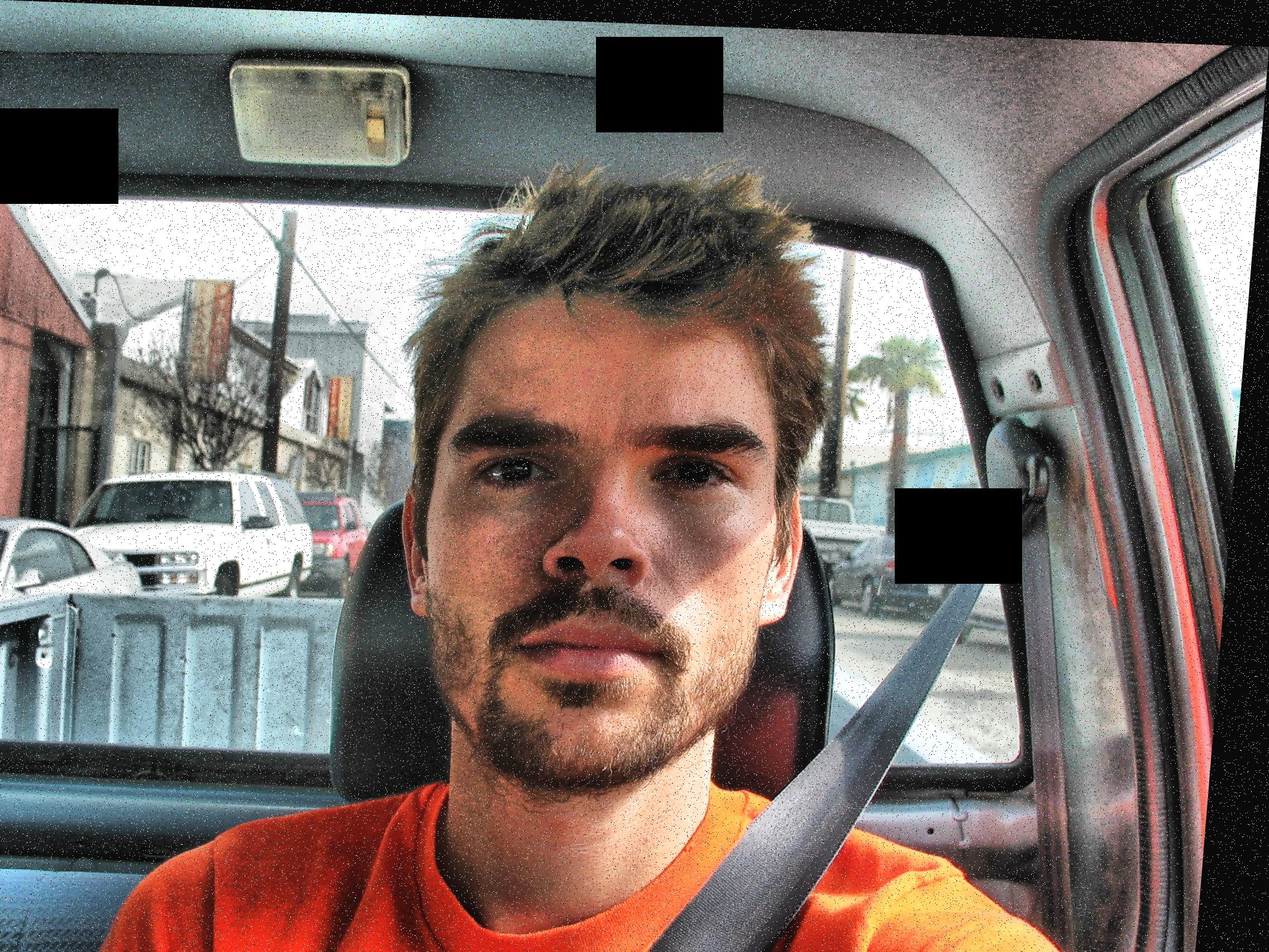seatbelt: (638, 428, 1102, 952)
